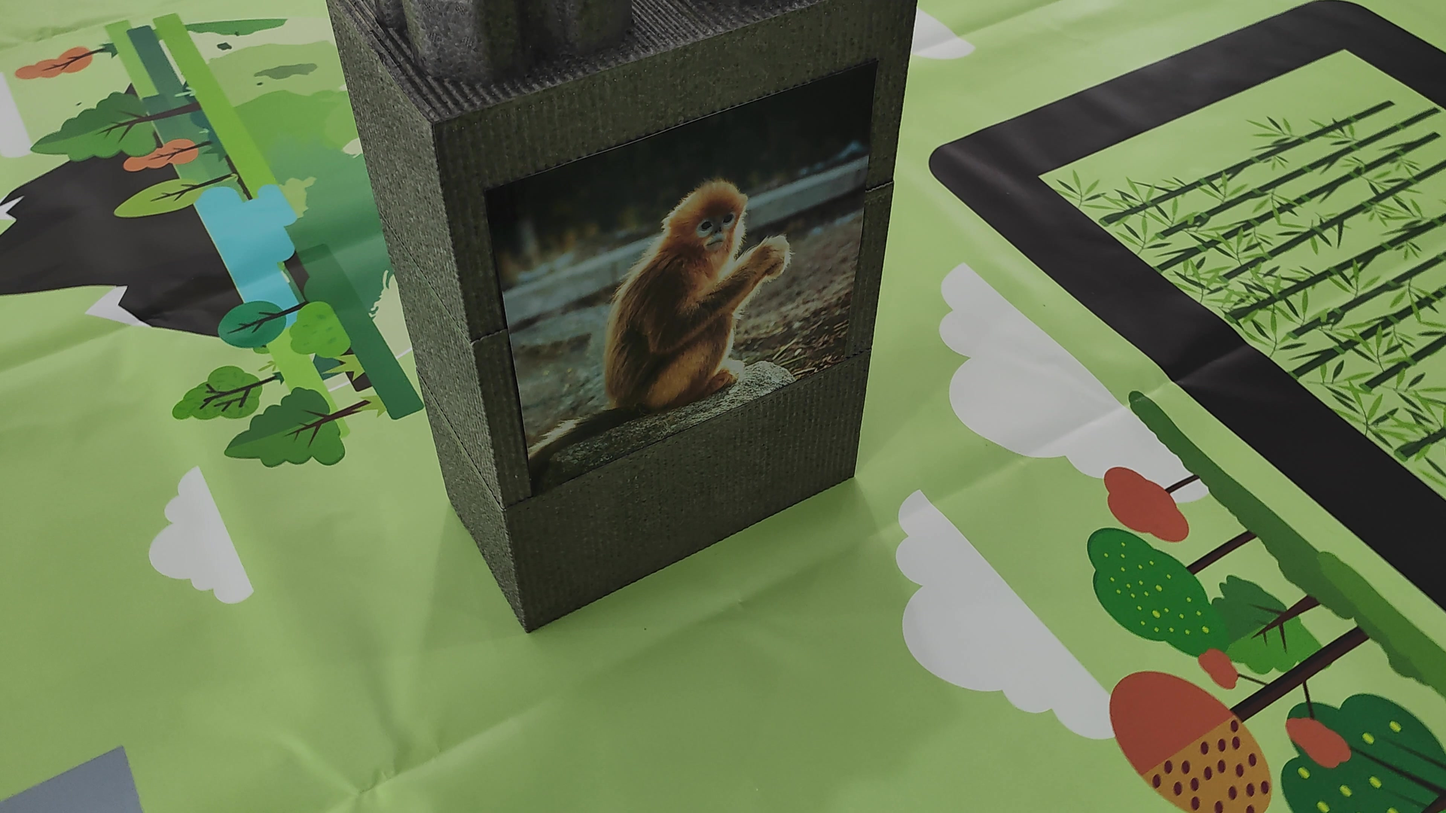monkey: (527, 174, 790, 478)
